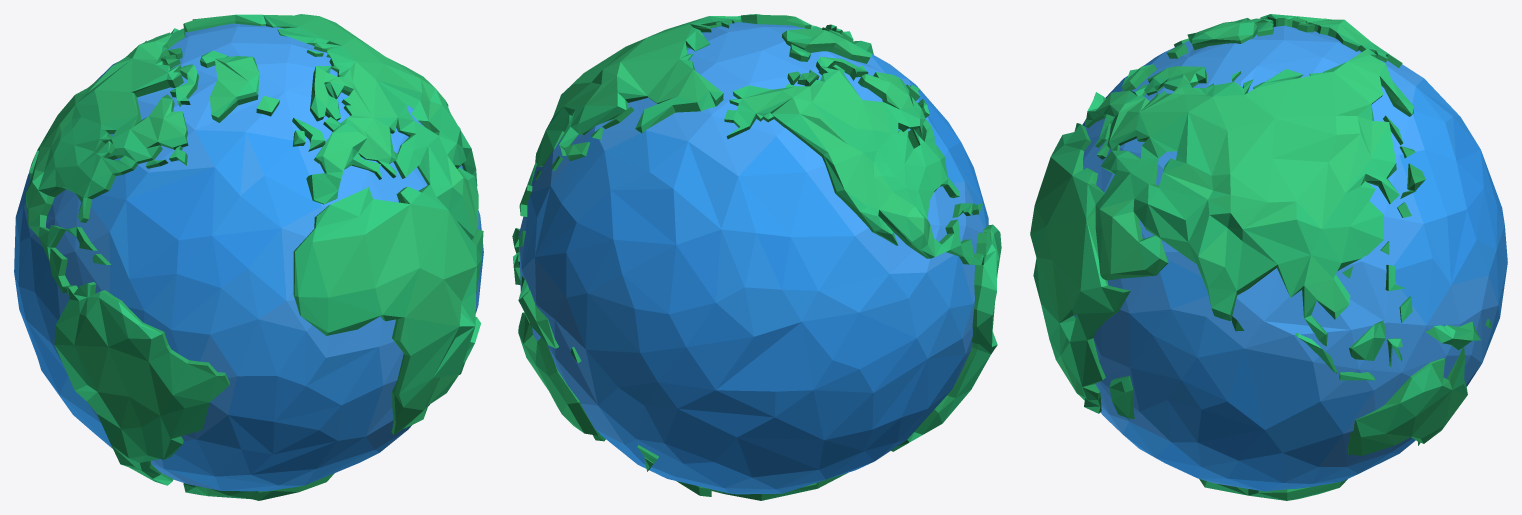
Rendered from earth.gltf.
3 renders of one model, left to right at view 1: azimuth 30°, elevation 25°; view 2: azimuth 150°, elevation 25°; view 3: azimuth 270°, elevation 25°, orthographic.
Visible parts, largest first — view 1: flatEarth_lands, flatEarth_sea; view 2: flatEarth_sea, flatEarth_lands; view 3: flatEarth_lands, flatEarth_sea.
Boxes of the visible parts, x1,y1,x2,y2 form: flatEarth_lands: (26,14,483,500); flatEarth_sea: (14,23,483,491); flatEarth_sea: (518,22,988,494); flatEarth_lands: (512,14,1001,500); flatEarth_lands: (1030,14,1492,500); flatEarth_sea: (1074,25,1507,491).
Bounding box in the file's own units: 1.55 × 1.55 × 1.54.
Materials: 1 (1 with a texture image).
